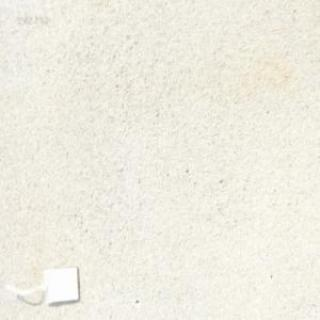LuggageTagtrack_idkeyframe: (15, 260, 80, 304)
